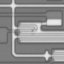dust: (32, 26, 37, 32)
